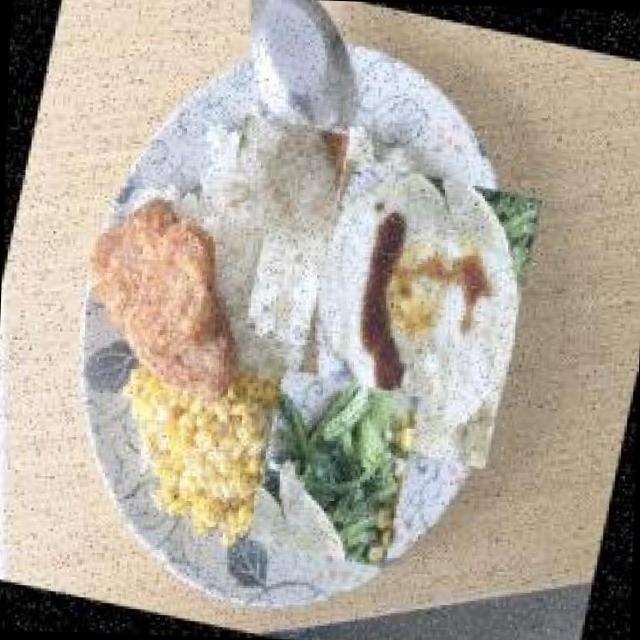fried_eggs: (287, 156, 544, 472)
rice: (199, 110, 352, 348)
triangle_hash_brown: (65, 186, 267, 406)
water_spinach: (246, 364, 422, 568)
